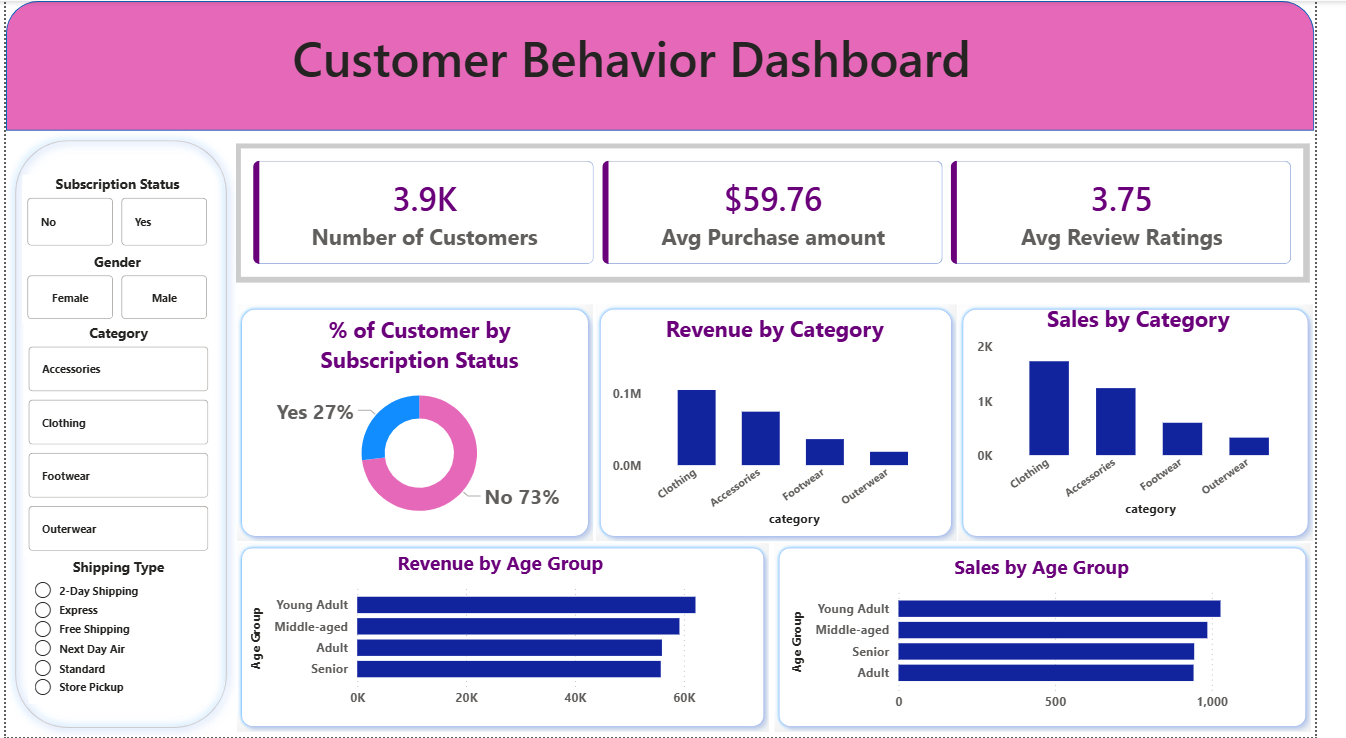

What the dashboard file says about the page in this screenshot:
{"tool":"powerbi","page":{"name":"Page 1","canvas":[1280,720],"ordinal":0},"visuals":[{"type":"cardVisual","fields":{"Data":["customer cleaned_data.Number of Customers","customer cleaned_data.Avg Purchase amount","customer cleaned_data.Avg Review Ratings"]},"box":[225.1,139.9,1050.3,135.6],"z":0},{"type":"shape","box":[0,0,1279.7,127],"z":1000},{"type":"textbox","box":[150,17.3,923.4,93.8],"z":2000},{"type":"shape","box":[225.1,295.8,350.6,233.7],"z":3000},{"type":"donutChart","title":"% of Customer by Subscription Status","fields":{"Category":["customer cleaned_data.subscription_status"],"Y":["CountNonNull(customer cleaned_data.customer_id)"]},"box":[245.3,307.3,317.4,213.5],"z":4000},{"type":"shape","box":[575.7,295.8,354.9,233.7],"z":5000},{"type":"columnChart","title":"Revenue by Category","fields":{"Category":["customer cleaned_data.category"],"Y":["Sum(customer cleaned_data.purchase_amount)"]},"box":[588.6,305.9,327.5,213.5],"z":6000},{"type":"shape","box":[930.6,295.8,349.1,233.7],"z":7000},{"type":"columnChart","title":"Sales by Category","fields":{"Category":["customer cleaned_data.category"],"Y":["CountNonNull(customer cleaned_data.customer_id)"]},"box":[945,295.8,324.6,213.5],"z":8000},{"type":"shape","box":[0,127,225.1,593],"z":9000},{"type":"advancedSlicerVisual","fields":{"Values":["customer cleaned_data.subscription_status"]},"box":[15.9,170.2,186.1,75],"z":10000},{"type":"advancedSlicerVisual","title":"Gender","fields":{"Values":["customer cleaned_data.gender"]},"box":[15.9,245.3,186.1,70.7],"z":11000},{"type":"advancedSlicerVisual","fields":{"Values":["customer cleaned_data.category"]},"box":[17.3,316,186.1,228],"z":12000},{"type":"listSlicer","fields":{"Values":["customer cleaned_data.shipping_type"]},"box":[21.6,543.9,176,142.8],"z":13000},{"type":"shape","box":[225.1,529.5,522.3,186.1],"z":13001},{"type":"shape","box":[750.2,529.5,526.6,186.1],"z":13002},{"type":"clusteredBarChart","title":"Revenue by Age Group","fields":{"Category":["customer cleaned_data.age_group"],"Y":["Sum(customer cleaned_data.purchase_amount)"]},"box":[235.2,536.7,497.8,163],"z":13003},{"type":"clusteredBarChart","title":"Sales by Age Group","fields":{"Category":["customer cleaned_data.age_group"],"Y":["CountNonNull(customer cleaned_data.customer_id)"]},"box":[764.7,541,497.8,163],"z":13004}]}

Visuals, with their boxes in screenshot pixels (x1, y1, x2, y2), scaled from the page's 1280x720 canvas onto the 1346x738 screenshot:
cardVisual - customer cleaned_data.Number of Customers x customer cleaned_data.Avg Purchase amount: select_region(237, 143, 1341, 282)
shape: select_region(0, 0, 1345, 130)
textbox: select_region(158, 18, 1129, 114)
shape: select_region(237, 303, 605, 543)
"% of Customer by Subscription Status" donutChart: select_region(258, 315, 592, 534)
shape: select_region(605, 303, 979, 543)
"Revenue by Category" columnChart: select_region(619, 314, 963, 532)
shape: select_region(979, 303, 1345, 543)
"Sales by Category" columnChart: select_region(994, 303, 1335, 522)
shape: select_region(0, 130, 237, 737)
advancedSlicerVisual - customer cleaned_data.subscription_status: select_region(17, 174, 212, 251)
"Gender" advancedSlicerVisual: select_region(17, 251, 212, 324)
advancedSlicerVisual - customer cleaned_data.category: select_region(18, 324, 214, 558)
listSlicer - customer cleaned_data.shipping_type: select_region(23, 557, 208, 704)
shape: select_region(237, 543, 786, 733)
shape: select_region(789, 543, 1343, 733)
"Revenue by Age Group" clusteredBarChart: select_region(247, 550, 771, 717)
"Sales by Age Group" clusteredBarChart: select_region(804, 555, 1328, 722)
